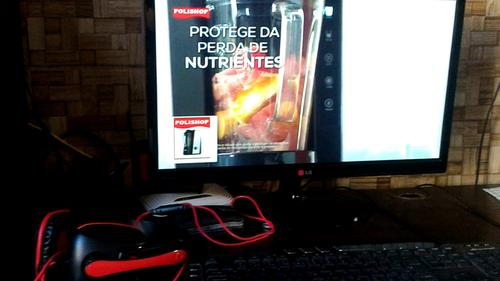Polishop #1: (166, 115, 218, 164)
